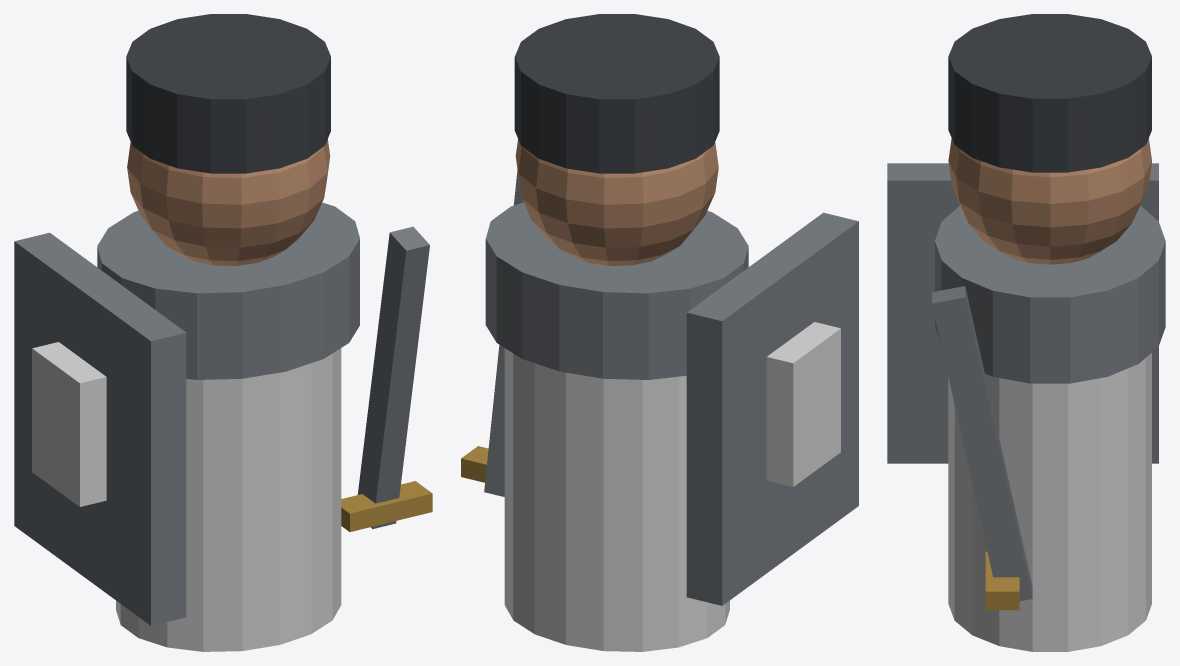
File: warden.bc25ba67.glb
3 views of the same model, side by side, from view 1: azimuth 30°, elevation 25°; view 2: azimuth 150°, elevation 25°; view 3: azimuth 270°, elevation 25° (orthographic).
Parts seen in each view (by area): view 1: body, accent; view 2: body, accent; view 3: body, accent.
Part boxes in pixels (<box>): body: <box>14,14,432,625</box>; accent: <box>32,342,341,651</box>; body: <box>461,14,858,605</box>; accent: <box>504,322,840,651</box>; body: <box>887,14,1165,610</box>; accent: <box>948,353,1151,651</box>.
Size of the model in its own units: 0.605 by 0.89 by 0.41.
